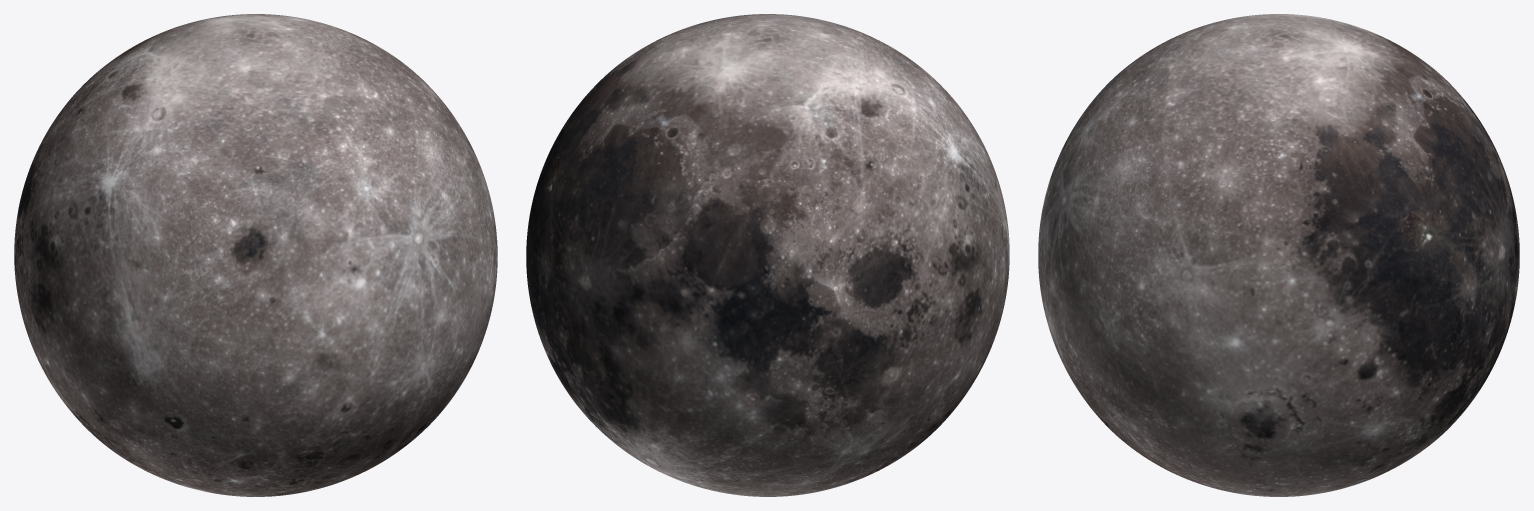
File: moon-v2.glb
3 views of the same model, side by side, from view 1: azimuth 30°, elevation 25°; view 2: azimuth 150°, elevation 25°; view 3: azimuth 270°, elevation 25° (orthographic).
Visible parts, largest first — view 1: Cube; view 2: Cube; view 3: Cube.
Boxes of the visible parts, x1,y1,x2,y2 form: Cube: (14,14,497,496); Cube: (526,14,1009,496); Cube: (1038,14,1519,496).
Size of the model in its own units: 2.54 by 2.54 by 2.54.
1 material, 1 textured.
